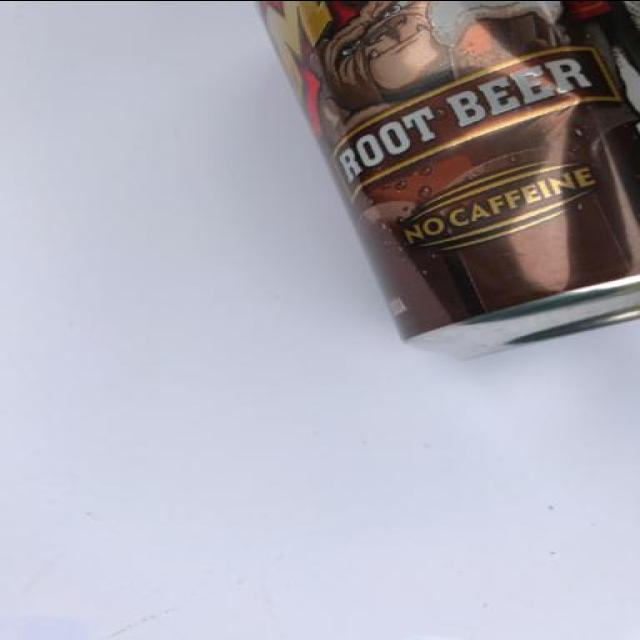Aluminum Can: (225, 1, 640, 439)
